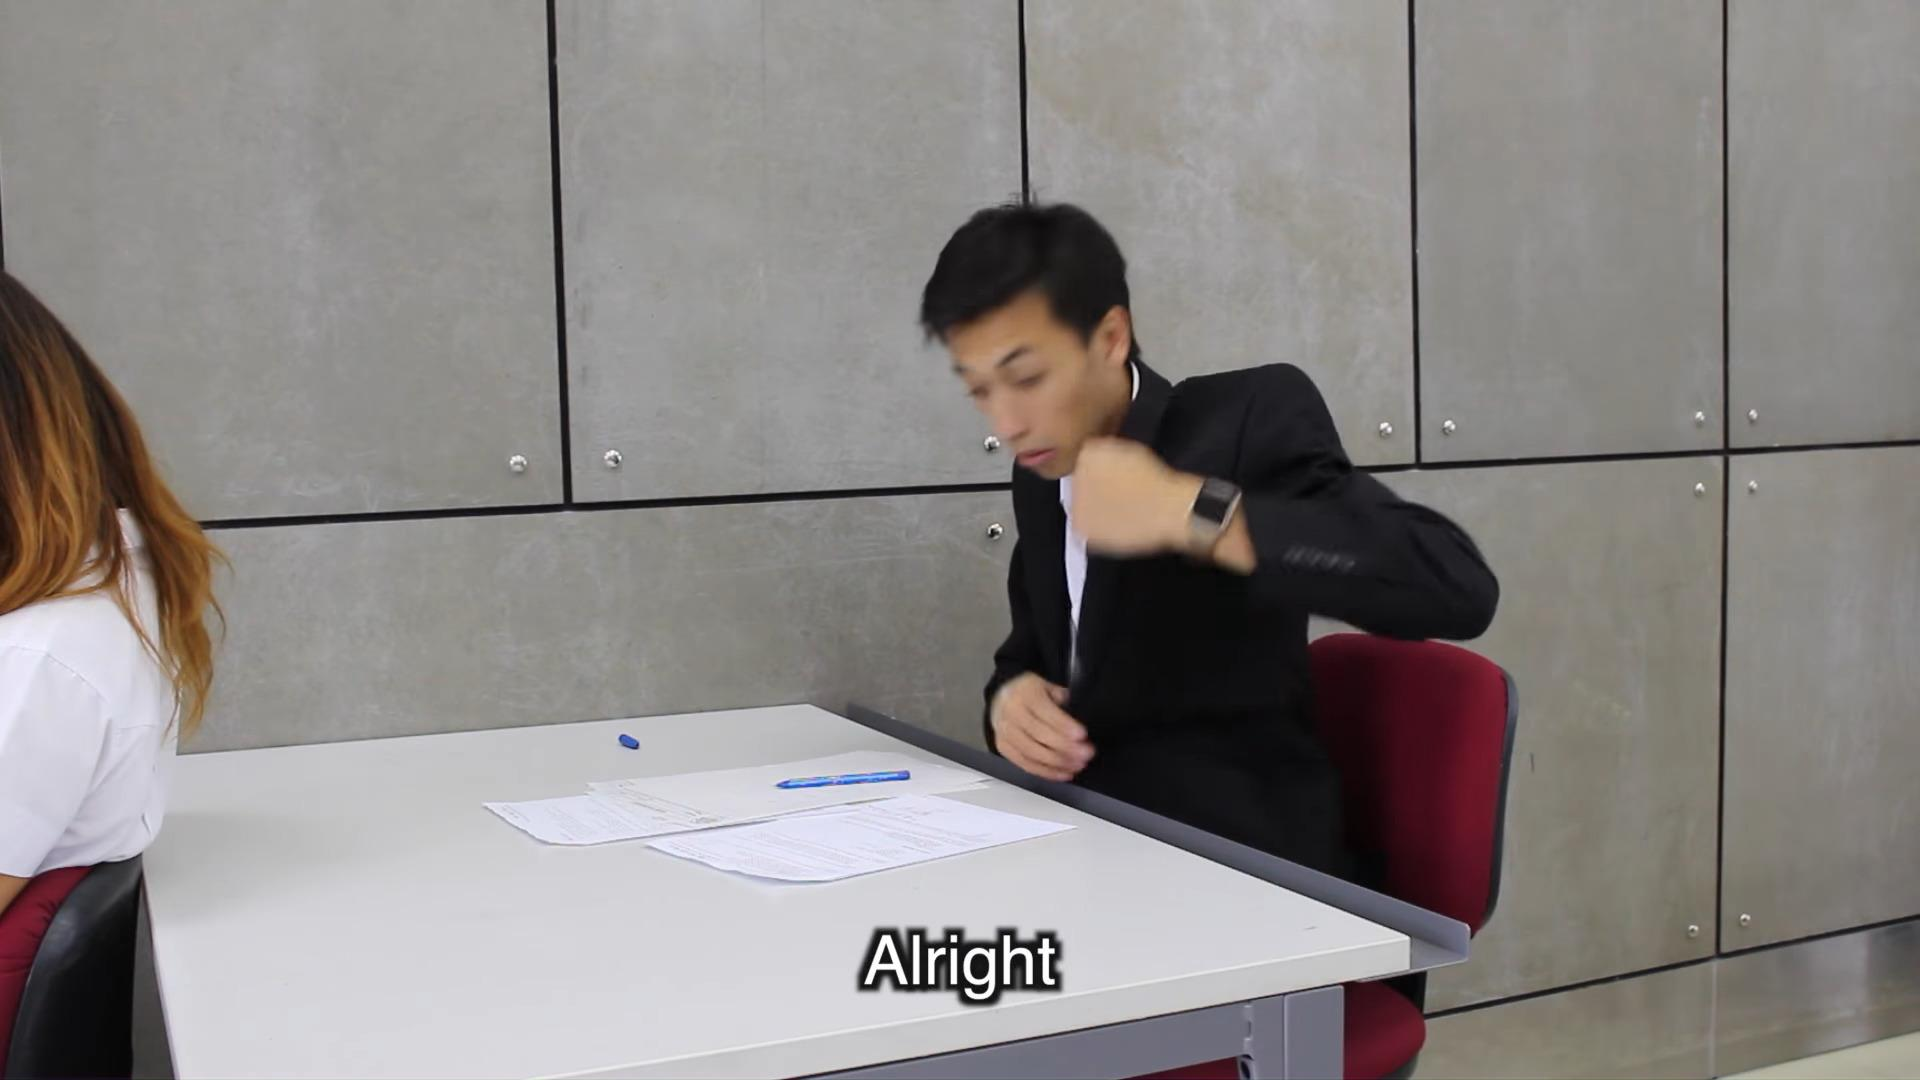good: (458, 166, 1528, 902)
